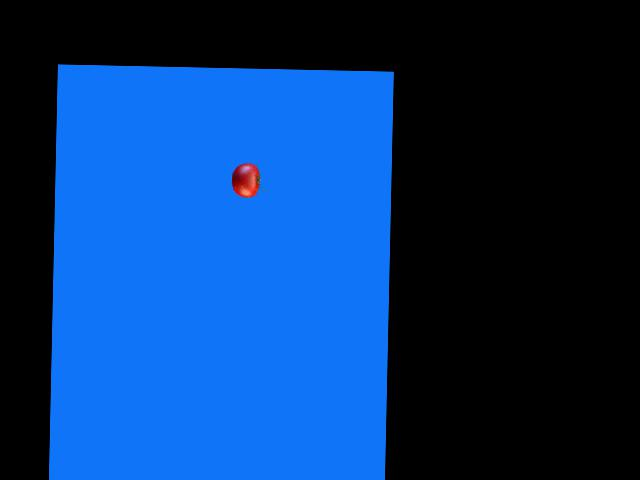tomato: (231, 162, 260, 197)
